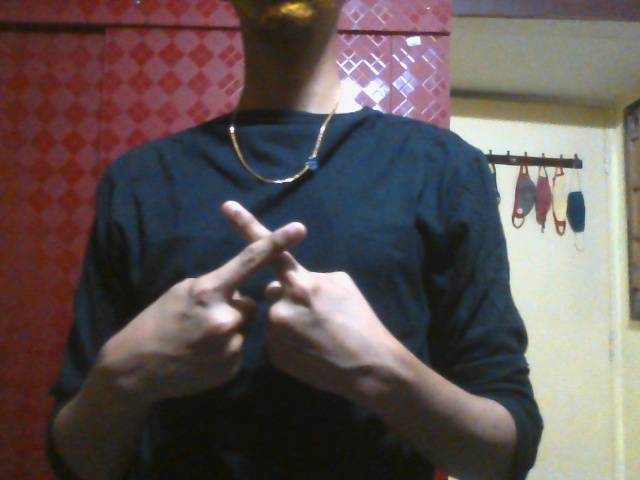X: (133, 200, 399, 407)
